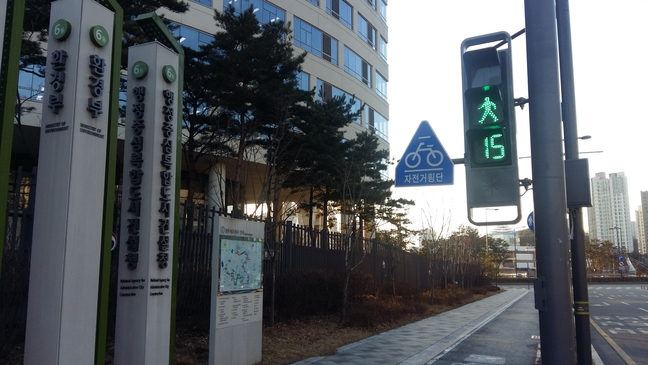traffic_light: (460, 57, 511, 128)
traffic_light_number: (464, 131, 513, 166)
